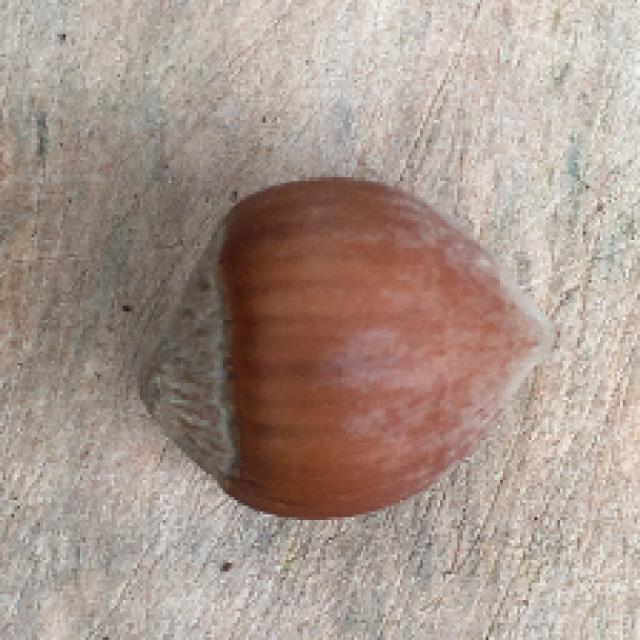QualityHazelnut: (139, 176, 559, 518)
